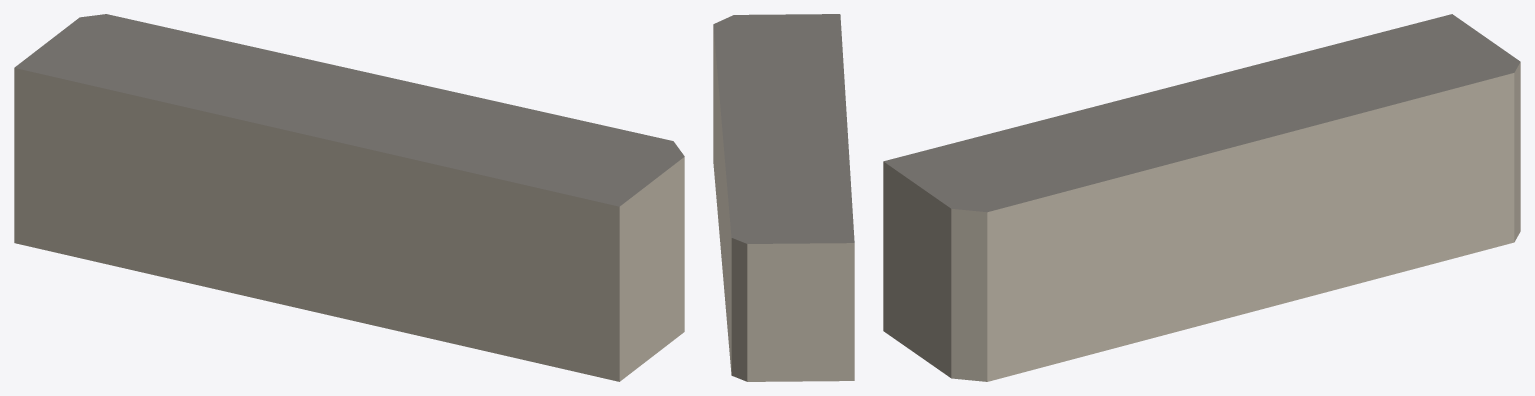
3 renders of one model, left to right at view 1: azimuth 30°, elevation 25°; view 2: azimuth 150°, elevation 25°; view 3: azimuth 270°, elevation 25°, orthographic. The views are drawn at different scales.
Visible parts, largest first — view 1: HP-w1435294186; view 2: HP-w1435294186; view 3: HP-w1435294186.
Part boxes in pixels (x1,y1,x2,y2): HP-w1435294186: (14,14,684,381); HP-w1435294186: (713,14,854,381); HP-w1435294186: (883,14,1520,381).
Bounding box in the file's own units: 45.09 × 18 × 61.26.
